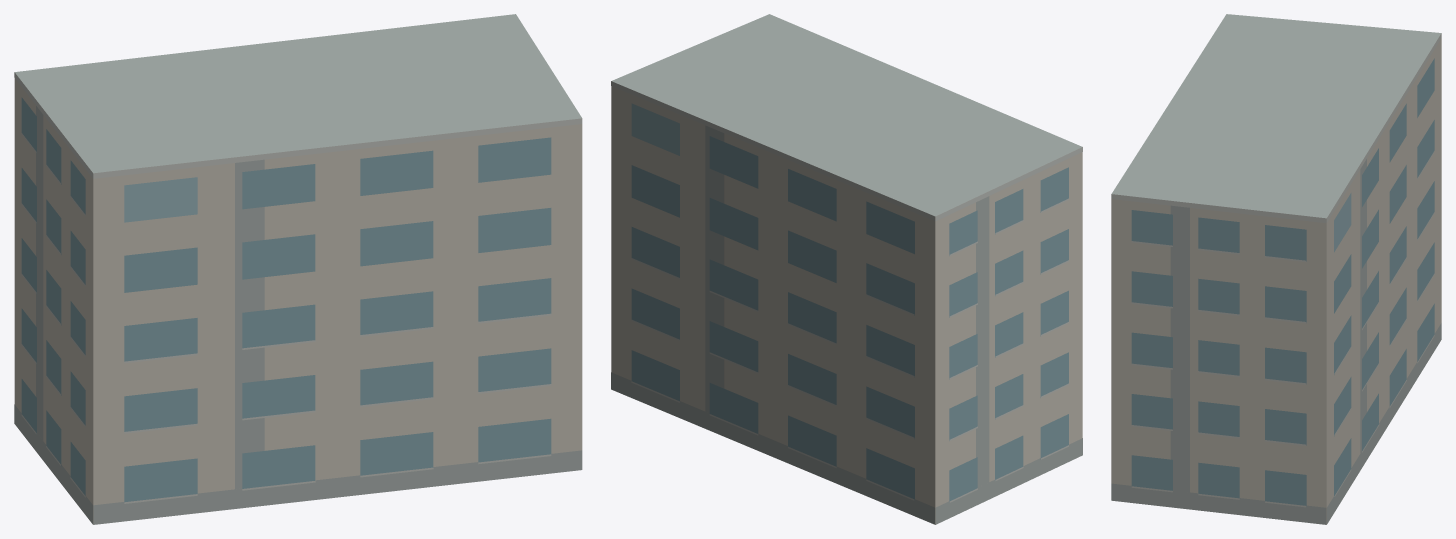
Rendered from residential-eb01c6a9-ca5f-4ebb-9411-19b9fc0b8818.glb.
3 views of the same model, side by side, from view 1: azimuth 30°, elevation 25°; view 2: azimuth 150°, elevation 25°; view 3: azimuth 270°, elevation 25° (orthographic). The views are drawn at different scales.
Visible parts, largest first — view 1: residential-eb01c6a9-ca5f-4ebb-9411-19b9fc0b8818.tmp; view 2: residential-eb01c6a9-ca5f-4ebb-9411-19b9fc0b8818.tmp; view 3: residential-eb01c6a9-ca5f-4ebb-9411-19b9fc0b8818.tmp.
Part boxes in pixels (x1,y1,x2,y2): residential-eb01c6a9-ca5f-4ebb-9411-19b9fc0b8818.tmp: (14,14,582,524); residential-eb01c6a9-ca5f-4ebb-9411-19b9fc0b8818.tmp: (611,14,1082,524); residential-eb01c6a9-ca5f-4ebb-9411-19b9fc0b8818.tmp: (1111,14,1441,524).
Bounding box in the file's own units: 21.81 × 15.25 × 14.9.
